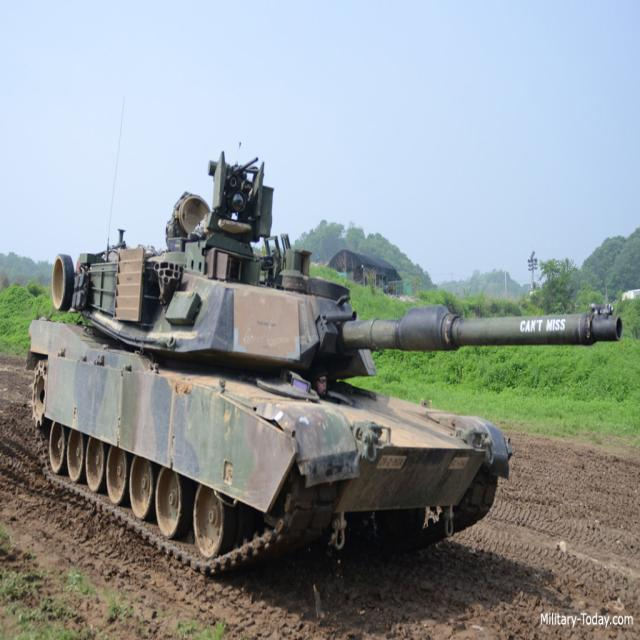Tank: (38, 147, 615, 608)
